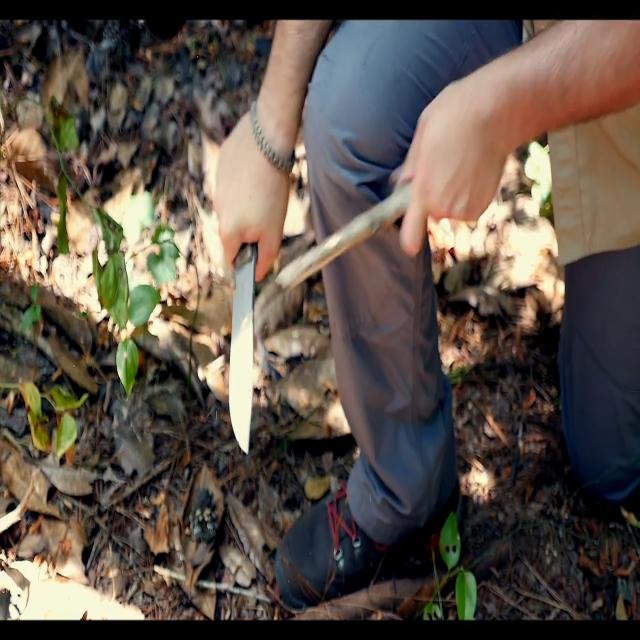knife: (227, 246, 261, 471)
